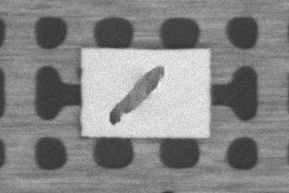DIE_INK: (151, 41, 256, 88)
